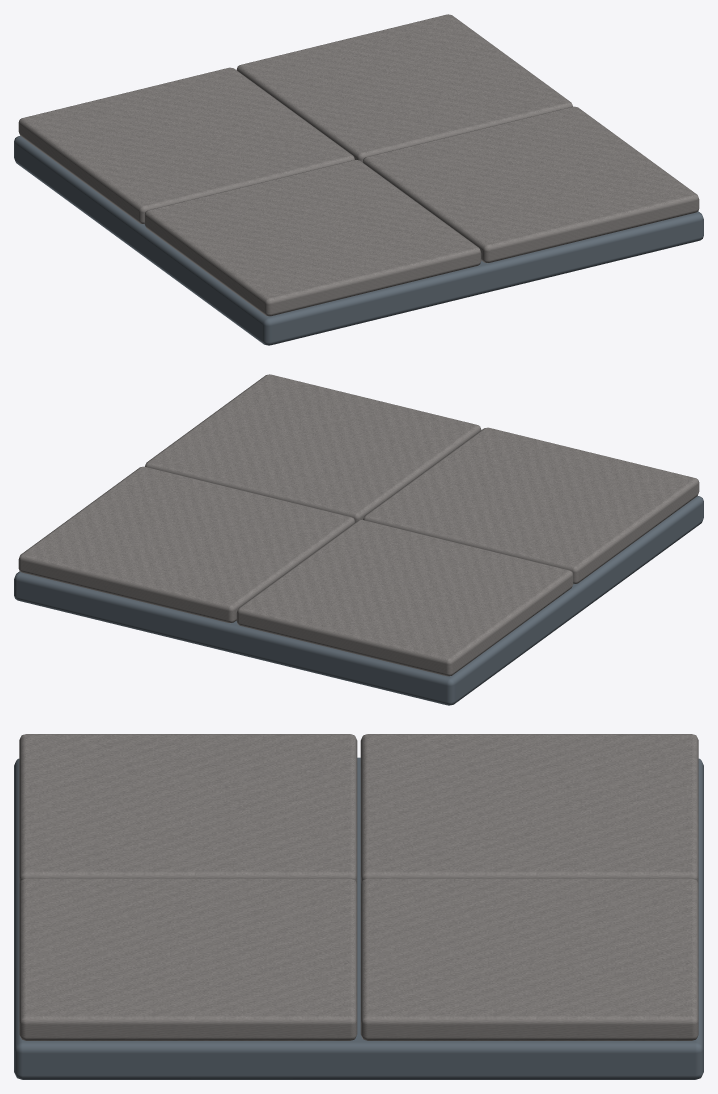
File: arena-shooter-map-kit-stone-floor-dd20f412__23068.glb
The picture shows the model from 3 angles, top to bottom: view 1: azimuth 30°, elevation 25°; view 2: azimuth 150°, elevation 25°; view 3: azimuth 270°, elevation 25°; orthographic projection. The views are drawn at different scales.
Visible parts, largest first — view 1: stone-floor; view 2: stone-floor; view 3: stone-floor.
Part boxes in pixels (x1,y1,x2,y2): stone-floor: [14, 14, 703, 345]; stone-floor: [14, 374, 703, 705]; stone-floor: [14, 734, 703, 1079].
Size of the model in its own units: 2 by 0.2 by 2.
2 materials, 1 textured.
